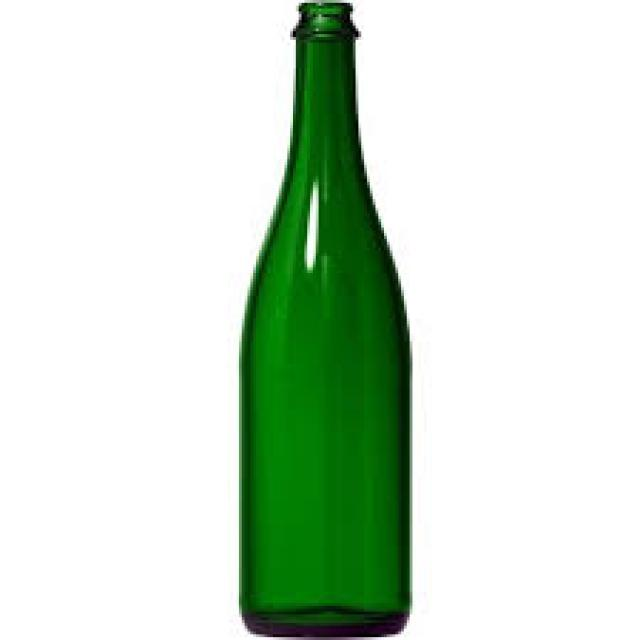glass: (239, 0, 409, 634)
